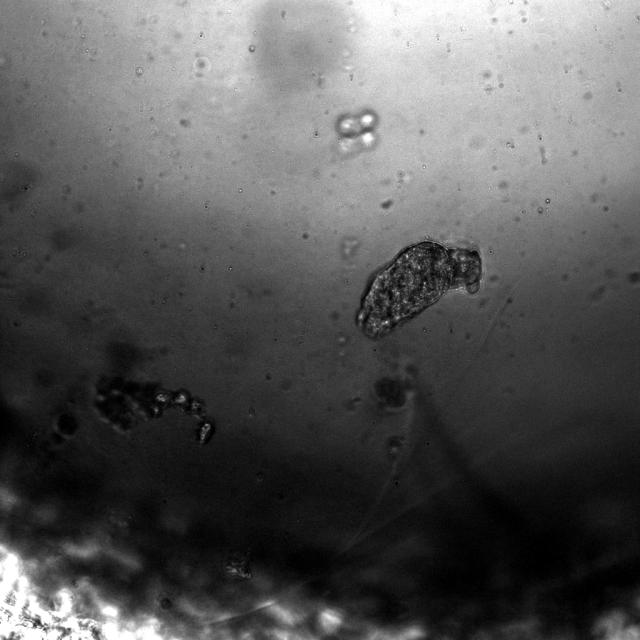organoid: (356, 239, 482, 339), (94, 343, 214, 443), (334, 110, 378, 155), (374, 376, 411, 409)
